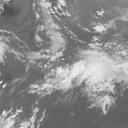cyclone: (27, 27, 114, 111)
